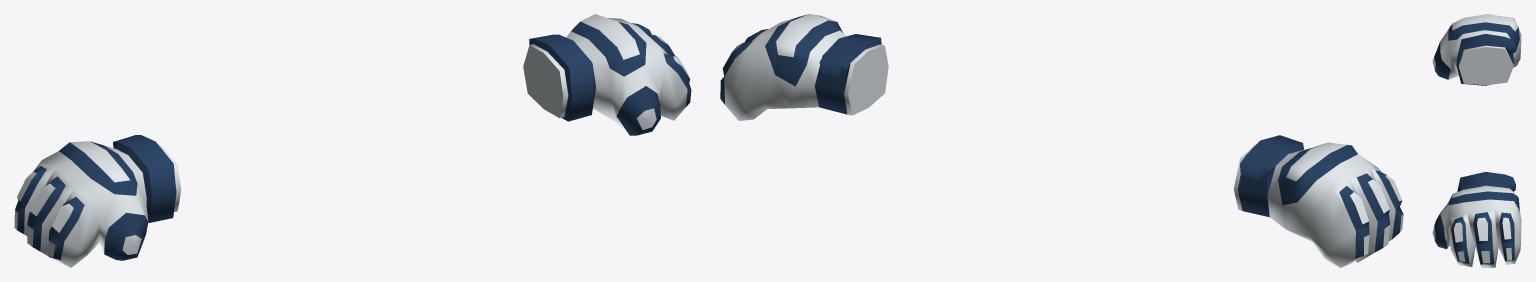
Rendered from Glove_13.fbx.
The picture shows the model from 3 angles, left to right: view 1: azimuth 30°, elevation 25°; view 2: azimuth 150°, elevation 25°; view 3: azimuth 270°, elevation 25°; orthographic projection. The views are drawn at different scales.
Visible parts, largest first — view 1: Glove_13; view 2: Glove_13; view 3: Glove_13.
Part boxes in pixels (box(x1,y1,x2,y2)): Glove_13: box(14, 14, 691, 267); Glove_13: box(720, 14, 1403, 267); Glove_13: box(1432, 14, 1521, 267).
Bounding box in the file's own units: 140 × 19.9 × 24.52.
